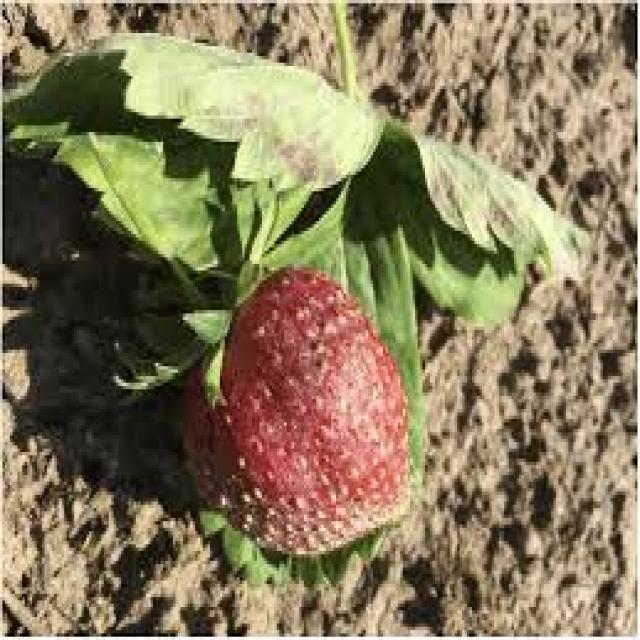Oído: (172, 271, 430, 561)
